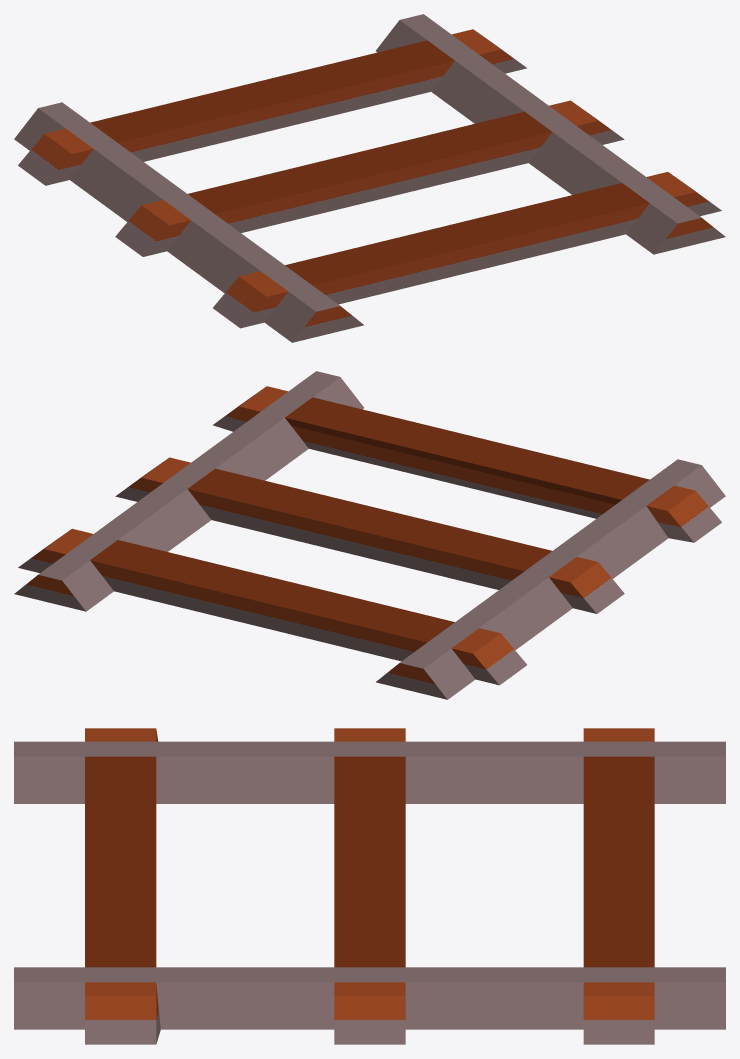
File: Rail.obj
The picture shows the model from 3 angles, top to bottom: view 1: azimuth 30°, elevation 25°; view 2: azimuth 150°, elevation 25°; view 3: azimuth 270°, elevation 25°; orthographic projection. The views are drawn at different scales.
Parts seen in each view (by area): view 1: Cube.001; view 2: Cube.001; view 3: Cube.001.
Part boxes in pixels (left/top/right/bottom): Cube.001: left=14, top=14, right=725, bottom=342; Cube.001: left=14, top=371, right=725, bottom=699; Cube.001: left=14, top=728, right=725, bottom=1044.
Bounding box in the file's own units: 5 × 0.25 × 5.
